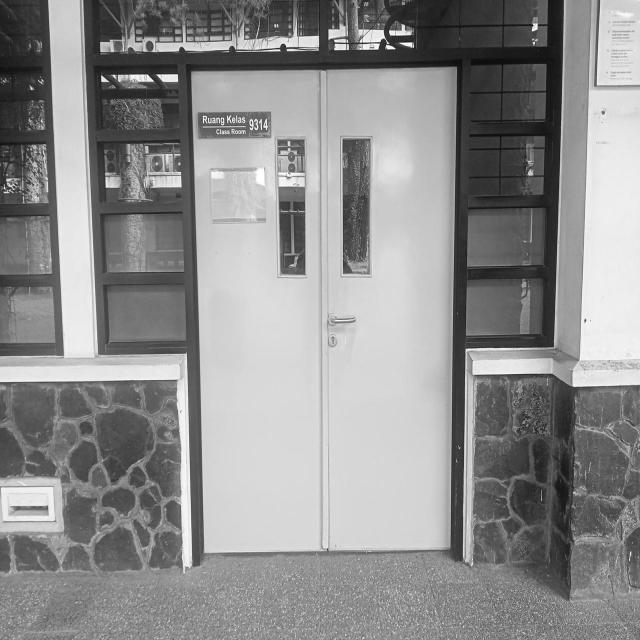door: (182, 54, 466, 558)
